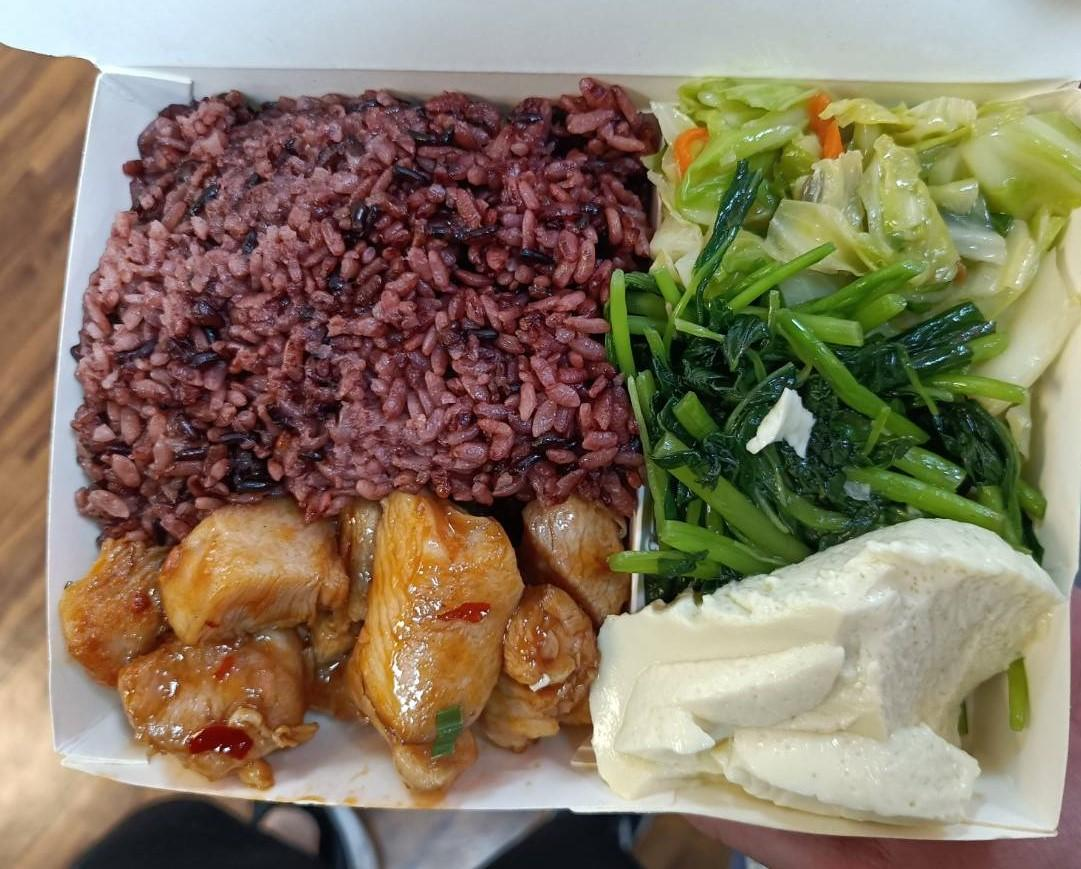big grilled chicken leg: (20, 38, 1081, 850)
braised fish: (76, 86, 652, 495)
braised fish fillet: (604, 522, 1055, 799), (626, 276, 1047, 564), (650, 78, 1073, 308)
braised pork: (70, 508, 613, 785)
